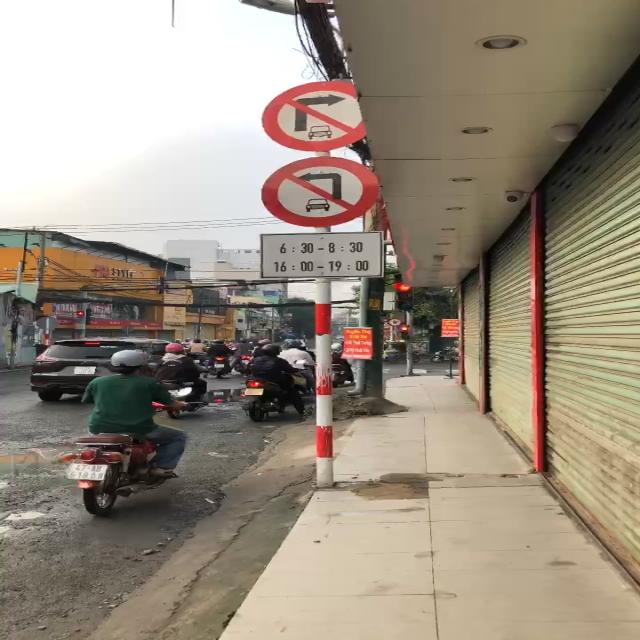Bien bao cam xe o to re phai: (257, 78, 387, 156)
Bien bao cam xe o to re trai: (258, 155, 386, 229)
